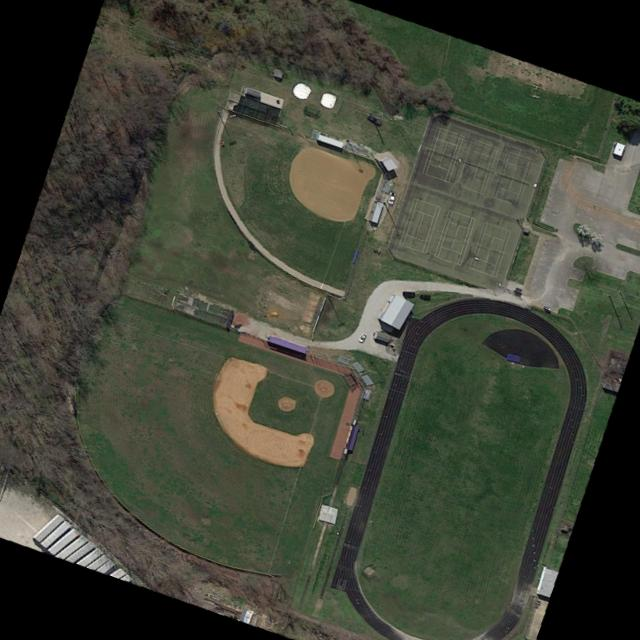small-vehicle: (367, 115, 385, 127), (403, 291, 416, 298), (359, 333, 368, 343)
